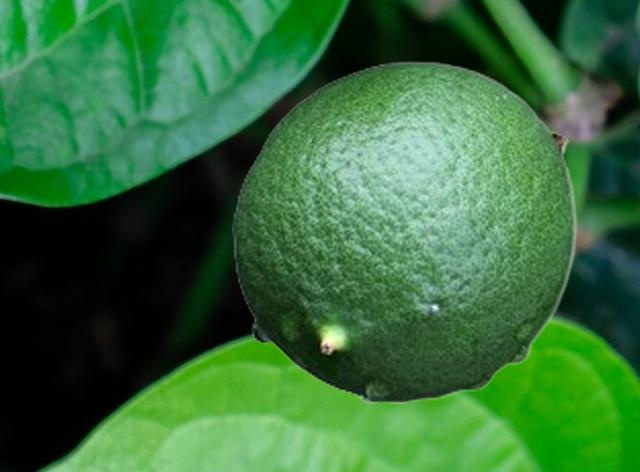calamansi: (232, 60, 576, 402)
